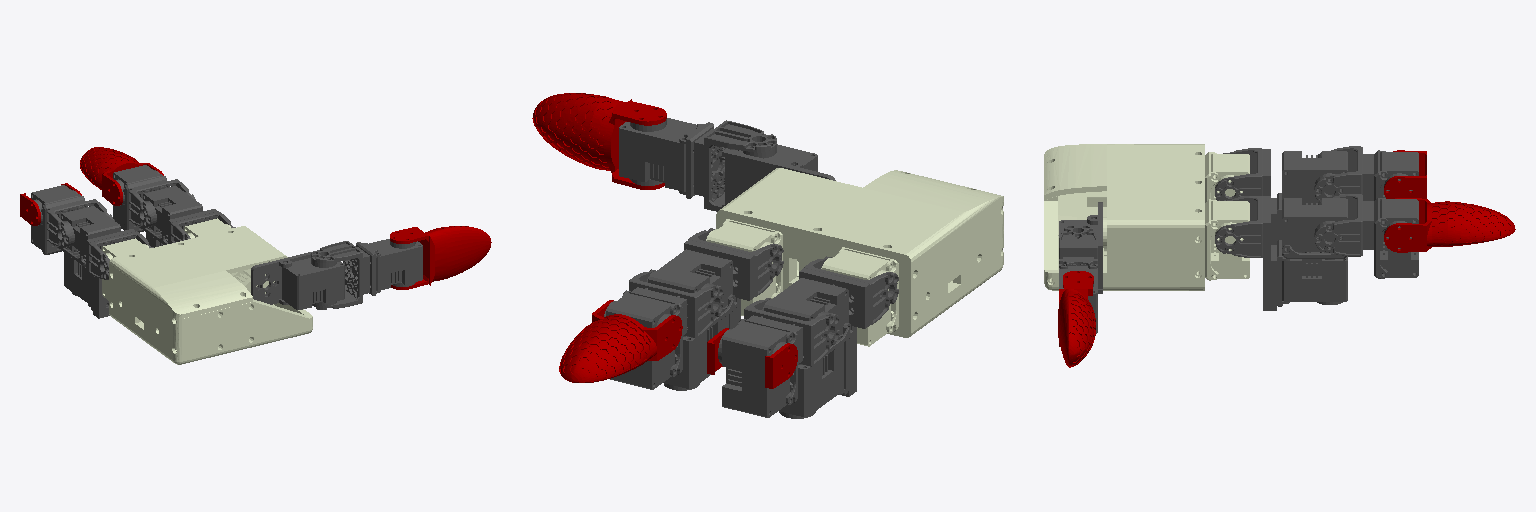
URDF robot description (GX11promax):
<?xml version="1.0" encoding="utf-8"?>
<!-- This URDF was automatically created by SolidWorks to URDF Exporter! Originally created by [author] ([email redacted]) 
     Commit Version: 1.6.0-4-g7f85cfe  Build Version: 1.6.7995.38578
     For more information, please see http://wiki.ros.org/sw_urdf_exporter -->
<robot
  name="GX11promax">
  <link
    name="base_link">
    <inertial>
      <origin
        xyz="0.000312033105377504 0.0559188374133813 -0.000555350477604549"
        rpy="0 0 0" />
      <mass
        value="0.160797512292559" />
      <inertia
        ixx="0.000100702955176406"
        ixy="-1.15922066014657E-05"
        ixz="1.12484051538739E-06"
        iyy="0.000107853474383833"
        iyz="-2.8581846249075E-06"
        izz="0.000188218606855103" />
    </inertial>
    <visual>
      <origin
        xyz="0 0 0"
        rpy="0 0 0" />
      <geometry>
        <mesh
          filename="package://GX11promax/meshes/base_link.STL" />
      </geometry>
      <material name="gray">
        <color rgba="0.885 0.915 0.8 1"/>
      </material>
    </visual>
    <collision>
      <origin
        xyz="0 0 0"
        rpy="0 0 0" />
      <geometry>
        <mesh
          filename="package://GX11promax/meshes/base_link.STL" />
      </geometry>
    </collision>
  </link>
  <link
    name="Link1">
    <inertial>
      <origin
        xyz="0.0255941711782224 0.000241258010955838 0.010493897443027"
        rpy="0 0 0" />
      <mass
        value="0.0204594242505954" />
      <inertia
        ixx="1.64761094304357E-06"
        ixy="1.1727883663051E-08"
        ixz="-7.63721252771507E-09"
        iyy="3.14103768519526E-06"
        iyz="-8.32099308750898E-23"
        izz="3.81122646460053E-06" />
    </inertial>
    <visual>
      <origin
        xyz="0 0 0"
        rpy="0 0 0" />
      <geometry>
        <mesh
          filename="package://GX11promax/meshes/Link1.STL" />
      </geometry>
      <material name="gray">
        <color rgba="0.4 0.4 0.4 1"/>
      </material>
    </visual>
    <collision>
      <origin
        xyz="0 0 0"
        rpy="0 0 0" />
      <geometry>
        <mesh
          filename="package://GX11promax/meshes/Link1.STL" />
      </geometry>
    </collision>
  </link>
  <joint
    name="joint1"
    type="revolute">
    <origin
      xyz="0.0309007440278484 0.0305 0.0058732274974783"
      rpy="1.5707963267949 0 0" />
    <parent
      link="base_link" />
    <child
      link="Link1" />
    <axis
      xyz="0 0 1" />
    <limit
      lower="0"
      upper="2.1"
      effort="10"
      velocity="6.2" />
  </joint>
  <link
    name="Link2">
    <inertial>
      <origin
        xyz="0.0407682617952134 4.4127895781898E-14 0.000223487714582398"
        rpy="0 0 0" />
      <mass
        value="0.0220862252142514" />
      <inertia
        ixx="2.25047371705653E-06"
        ixy="3.28488887357354E-18"
        ixz="1.17278836282494E-08"
        iyy="3.34626288327582E-06"
        iyz="9.07874054918504E-18"
        izz="2.44821512682901E-06" />
    </inertial>
    <visual>
      <origin
        xyz="0 0 0"
        rpy="0 0 0" />
      <geometry>
        <mesh
          filename="package://GX11promax/meshes/Link2.STL" />
      </geometry>
      <material name="gray">
        <color rgba="0.4 0.4 0.4 1"/>
      </material>
    </visual>
    <collision>
      <origin
        xyz="0 0 0"
        rpy="0 0 0" />
      <geometry>
        <mesh
          filename="package://GX11promax/meshes/Link2.STL" />
      </geometry>
    </collision>
  </link>
  <joint
    name="joint2"
    type="revolute">
    <origin
      xyz="0.0344999999999999 0 0.013"
      rpy="-1.5707963267949 0 0" />
    <parent
      link="Link1" />
    <child
      link="Link2" />
    <axis
      xyz="0 0 1" />
    <limit
      lower="-0.25"
      upper="1.7"
      effort="10"
      velocity="6.2" />
  </joint>
  <link
    name="Link3">
    <inertial>
      <origin
        xyz="0.00407809774758189 -6.65938561447699E-08 -1.04083408558608E-17"
        rpy="0 0 0" />
      <mass
        value="0.00125017090070063" />
      <inertia
        ixx="2.40014433117899E-08"
        ixy="7.97359704179151E-13"
        ixz="1.75775880167518E-24"
        iyy="4.71463082785401E-08"
        iyz="1.31561299280712E-23"
        izz="7.01339739927326E-08" />
    </inertial>
    <visual>
      <origin
        xyz="0 0 0"
        rpy="0 0 0" />
      <geometry>
        <mesh
          filename="package://GX11promax/meshes/Link3.STL" />
      </geometry>
      <material name="red">
        <color rgba="0.7 0.0 0.0 1"/>
      </material>
    </visual>
    <collision>
      <origin
        xyz="0 0 0"
        rpy="0 0 0" />
      <geometry>
        <mesh
          filename="package://GX11promax/meshes/Link3.STL" />
      </geometry>
    </collision>
  </link>
  <joint
    name="joint3"
    type="revolute">
    <origin
      xyz="0.0555000000000001 0 0"
      rpy="0 0 0" />
    <parent
      link="Link2" />
    <child
      link="Link3" />
    <axis
      xyz="0 0 1" />
    <limit
      lower="-0.25"
      upper="1.7"
      effort="10"
      velocity="6.2" />
  </joint>
  <link
    name="Link12">
    <inertial>
      <origin
        xyz="8.1335402813288E-05 -0.00166486750766669 -0.025558003708793"
        rpy="0 0 0" />
      <mass
        value="0.0164248371643224" />
      <inertia
        ixx="2.3508821939384E-06"
        ixy="-3.86158209085121E-11"
        ixz="1.52775496068753E-10"
        iyy="3.00563965204244E-06"
        iyz="3.51792921801991E-08"
        izz="1.31382958537141E-06" />
    </inertial>
    <visual>
      <origin
        xyz="0 0 0"
        rpy="0 0 0" />
      <geometry>
        <mesh
          filename="package://GX11promax/meshes/Link12.STL" />
      </geometry>
      <material name="red">
        <color rgba="0.7 0.0 0.0 1"/>
      </material>
    </visual>
    <collision>
      <origin
        xyz="0 0 0"
        rpy="0 0 0" />
      <geometry>
        <mesh
          filename="package://GX11promax/meshes/Link12.STL" />
      </geometry>
    </collision>
  </link>
  <joint
    name="joint12"
    type="fixed">
    <origin
      xyz="0.057 0.00 0"
      rpy="0 1.5707963267949 0" />
    <parent
      link="Link3" />
    <child
      link="Link12" />
    <axis
      xyz="0 0 0" />
    <limit
      lower="-1"
      upper="1"
      effort="10"
      velocity="0" />
  </joint>
  <link
    name="Link4">
    <inertial>
      <origin
        xyz="0.0343877567350999 -0.0218255061736905 -1.16909953939981E-13"
        rpy="0 0 0" />
      <mass
        value="0.0259800201624105" />
      <inertia
        ixx="3.93599324991523E-06"
        ixy="5.40235204916075E-08"
        ixz="-2.94315829951474E-17"
        iyy="3.03368719937263E-06"
        iyz="4.15585120901418E-18"
        izz="4.29362563855095E-06" />
    </inertial>
    <visual>
      <origin
        xyz="0 0 0"
        rpy="0 0 0" />
      <geometry>
        <mesh
          filename="package://GX11promax/meshes/Link4.STL" />
      </geometry>
      <material name="gray">
        <color rgba="0.4 0.4 0.4 1"/>
      </material>
    </visual>
    <collision>
      <origin
        xyz="0 0 0"
        rpy="0 0 0" />
      <geometry>
        <mesh
          filename="package://GX11promax/meshes/Link4.STL" />
      </geometry>
    </collision>
  </link>
  <joint
    name="joint4"
    type="revolute">
    <origin
      xyz="0.029 0.096 0.00806475912646926"
      rpy="1.5707963267949 0 1.5707963267949" />
    <parent
      link="base_link" />
    <child
      link="Link4" />
    <axis
      xyz="0 0 1" />
    <limit
      lower="-0.3"
      upper="1.6"
      effort="10"
      velocity="6.2" />
  </joint>
  <link
    name="Link5">
    <inertial>
      <origin
        xyz="-0.00693594209096299 -0.000279377685939716 0.0118671806604443"
        rpy="0 0 0" />
      <mass
        value="0.0176678393043425" />
      <inertia
        ixx="1.47006653226869E-06"
        ixy="-1.17278787211214E-08"
        ixz="-4.36210007715237E-15"
        iyy="2.21216244461737E-06"
        iyz="1.53129454691632E-16"
        izz="2.71458475513644E-06" />
    </inertial>
    <visual>
      <origin
        xyz="0 0 0"
        rpy="0 0 0" />
      <geometry>
        <mesh
          filename="package://GX11promax/meshes/Link5.STL" />
      </geometry>
      <material name="gray">
        <color rgba="0.4 0.4 0.4 1"/>
      </material>
    </visual>
    <collision>
      <origin
        xyz="0 0 0"
        rpy="0 0 0" />
      <geometry>
        <mesh
          filename="package://GX11promax/meshes/Link5.STL" />
      </geometry>
    </collision>
  </link>
  <joint
    name="joint5"
    type="revolute">
    <origin
      xyz="0.0515 -0.0119999999999991 0"
      rpy="-1.5707963267949 0 0" />
    <parent
      link="Link4" />
    <child
      link="Link5" />
    <axis
      xyz="0 0 -1" />
    <limit
      lower="-0.6"
      upper="0.6"
      effort="10"
      velocity="6.2" />
  </joint>
  <link
    name="Link6">
    <inertial>
      <origin
        xyz="0.0306969035122656 -0.00550289582691389 -0.000221655002058015"
        rpy="0 0 0" />
      <mass
        value="0.0222688407504672" />
      <inertia
        ixx="3.39223294772132E-06"
        ixy="4.36812949837023E-15"
        ixz="-1.81856366192471E-16"
        iyy="2.14774478329101E-06"
        iyz="-1.17278787182961E-08"
        izz="2.47775221177695E-06" />
    </inertial>
    <visual>
      <origin
        xyz="0 0 0"
        rpy="0 0 0" />
      <geometry>
        <mesh
          filename="package://GX11promax/meshes/Link6.STL" />
      </geometry>
      <material name="gray">
        <color rgba="0.4 0.4 0.4 1"/>
      </material>
    </visual>
    <collision>
      <origin
        xyz="0 0 0"
        rpy="0 0 0" />
      <geometry>
        <mesh
          filename="package://GX11promax/meshes/Link6.STL" />
      </geometry>
    </collision>
  </link>
  <joint
    name="joint6"
    type="revolute">
    <origin
      xyz="0 0 0.013"
      rpy="1.5707963267949 0 0" />
    <parent
      link="Link5" />
    <child
      link="Link6" />
    <axis
      xyz="0 0 1" />
    <limit
      lower="-0.506"
      upper="1.885"
      effort="10"
      velocity="6.2" />
  </joint>
  <link
    name="Link7">
    <inertial>
      <origin
        xyz="0.00407809774758192 0 0"
        rpy="0 0 0" />
      <mass
        value="0.00125017090070063" />
      <inertia
        ixx="2.40014433117899E-08"
        ixy="-7.9735970419414E-13"
        ixz="-5.51842243189203E-23"
        iyy="4.71463082785403E-08"
        iyz="-2.5435416626375E-23"
        izz="7.01339739927328E-08" />
    </inertial>
    <visual>
      <origin
        xyz="0 0 0"
        rpy="0 0 0" />
      <geometry>
        <mesh
          filename="package://GX11promax/meshes/Link7.STL" />
      </geometry>
      <material name="red">
        <color rgba="0.7 0.0 0.0 1"/>
      </material>
    </visual>
    <collision>
      <origin
        xyz="0 0 0"
        rpy="0 0 0" />
      <geometry>
        <mesh
          filename="package://GX11promax/meshes/Link7.STL" />
      </geometry>
    </collision>
  </link>
  <joint
    name="joint7"
    type="revolute">
    <origin
      xyz="0.036 0 0"
      rpy="3.14159265358979 0 0" />
    <parent
      link="Link6" />
    <child
      link="Link7" />
    <axis
      xyz="0 0 -1" />
    <limit
      lower="-0.366"
      upper="2.042"
      effort="10"
      velocity="6.2" />
  </joint>
  <link
    name="Link13">
    <inertial>
      <origin
        xyz="-8.13400999538118E-05 0.00166486239118922 -0.0255580037394252"
        rpy="0 0 0" />
      <mass
        value="0.016424837165235" />
      <inertia
        ixx="2.35088182791415E-06"
        ixy="-3.84307874164728E-11"
        ixz="-1.51618546307564E-10"
        iyy="3.00564049616382E-06"
        iyz="-3.51780609409142E-08"
        izz="1.31383009868489E-06" />
    </inertial>
    <visual>
      <origin
        xyz="0 0 0"
        rpy="0 0 0" />
      <geometry>
        <mesh
          filename="package://GX11promax/meshes/Link13.STL" />
      </geometry>
      <material name="red">
        <color rgba="0.7 0.0 0.0 1"/>
      </material>
    </visual>
    <collision>
      <origin
        xyz="0 0 0"
        rpy="0 0 0" />
      <geometry>
        <mesh
          filename="package://GX11promax/meshes/Link13.STL" />
      </geometry>
    </collision>
  </link>
  <joint
    name="joint13"
    type="fixed">
    <origin
      xyz="0.0570187350990352 -0.00231569753250514 -8.14092925387963E-05"
      rpy="0 1.5707963267949 0" />
    <parent
      link="Link7" />
    <child
      link="Link13" />
    <axis
      xyz="0 0 0" />
  </joint>
  <link
    name="Link8">
    <inertial>
      <origin
        xyz="0.034387756735096 -0.0218255061736946 -1.17045262371107E-13"
        rpy="0 0 0" />
      <mass
        value="0.0259800201624256" />
      <inertia
        ixx="3.93599324991521E-06"
        ixy="5.40235204916678E-08"
        ixz="-2.94210091036974E-17"
        iyy="3.03368719937266E-06"
        iyz="4.1822595311076E-18"
        izz="4.293625638551E-06" />
    </inertial>
    <visual>
      <origin
        xyz="0 0 0"
        rpy="0 0 0" />
      <geometry>
        <mesh
          filename="package://GX11promax/meshes/Link8.STL" />
      </geometry>
      <material name="gray">
        <color rgba="0.4 0.4 0.4 1"/>
      </material>
    </visual>
    <collision>
      <origin
        xyz="0 0 0"
        rpy="0 0 0" />
      <geometry>
        <mesh
          filename="package://GX11promax/meshes/Link8.STL" />
      </geometry>
    </collision>
  </link>
  <joint
    name="joint8"
    type="revolute">
    <origin
      xyz="-0.0289999999999999 0.096 0.00806475912646949"
      rpy="1.5707963267949 0 1.5707963267949" />
    <parent
      link="base_link" />
    <child
      link="Link8" />
    <axis
      xyz="0 0 1" />
    <limit
      lower="-0.314"
      upper="2.23"
      effort="10"
      velocity="6.2" />
  </joint>
  <link
    name="Link9">
    <inertial>
      <origin
        xyz="-0.00693594212200646 -0.000279377679085181 0.011867180660409"
        rpy="0 0 0" />
      <mass
        value="0.0176678393044255" />
      <inertia
        ixx="1.47006653227021E-06"
        ixy="-1.17278787191726E-08"
        ixz="4.3636658277301E-15"
        iyy="2.21216244462187E-06"
        iyz="-1.53881432448031E-16"
        izz="2.71458475514133E-06" />
    </inertial>
    <visual>
      <origin
        xyz="0 0 0"
        rpy="0 0 0" />
      <geometry>
        <mesh
          filename="package://GX11promax/meshes/Link9.STL" />
      </geometry>
      <material name="gray">
        <color rgba="0.4 0.4 0.4 1"/>
      </material>
    </visual>
    <collision>
      <origin
        xyz="0 0 0"
        rpy="0 0 0" />
      <geometry>
        <mesh
          filename="package://GX11promax/meshes/Link9.STL" />
      </geometry>
    </collision>
  </link>
  <joint
    name="joint9"
    type="revolute">
    <origin
      xyz="0.0515 -0.0119999999999994 0"
      rpy="-1.5707963267949 0 0" />
    <parent
      link="Link8" />
    <child
      link="Link9" />
    <axis
      xyz="0 0 -1" />
    <limit
      lower="-0.6"
      upper="0.6"
      effort="10"
      velocity="6.2" />
  </joint>
  <link
    name="Link10">
    <inertial>
      <origin
        xyz="0.0306969035122455 -0.0055028958269694 -0.000221655001767671"
        rpy="0 0 0" />
      <mass
        value="0.0222688407505351" />
      <inertia
        ixx="3.39223294772279E-06"
        ixy="4.36052961522859E-15"
        ixz="-1.26836697019448E-16"
        iyy="2.14774478329251E-06"
        iyz="-1.17278787162833E-08"
        izz="2.47775221177791E-06" />
    </inertial>
    <visual>
      <origin
        xyz="0 0 0"
        rpy="0 0 0" />
      <geometry>
        <mesh
          filename="package://GX11promax/meshes/Link10.STL" />
      </geometry>
      <material name="gray">
        <color rgba="0.4 0.4 0.4 1"/>
      </material>
    </visual>
    <collision>
      <origin
        xyz="0 0 0"
        rpy="0 0 0" />
      <geometry>
        <mesh
          filename="package://GX11promax/meshes/Link10.STL" />
      </geometry>
    </collision>
  </link>
  <joint
    name="joint10"
    type="revolute">
    <origin
      xyz="0 0 0.013"
      rpy="1.5708 0 0" />
    <parent
      link="Link9" />
    <child
      link="Link10" />
    <axis
      xyz="0 0 1" />
    <limit
      lower="-0.506"
      upper="1.885"
      effort="10"
      velocity="6.2" />
  </joint>
  <link
    name="Link11">
    <inertial>
      <origin
        xyz="0.00407809774758178 6.65938561551782E-08 0"
        rpy="0 0 0" />
      <mass
        value="0.00125017090070063" />
      <inertia
        ixx="2.40014433117899E-08"
        ixy="-7.97359704187499E-13"
        ixz="-5.48213759628279E-23"
        iyy="4.71463082785402E-08"
        iyz="7.31847139371896E-24"
        izz="7.01339739927327E-08" />
    </inertial>
    <visual>
      <origin
        xyz="0 0 0"
        rpy="0 0 0" />
      <geometry>
        <mesh
          filename="package://GX11promax/meshes/Link11.STL" />
      </geometry>
      <material name="red">
        <color rgba="0.7 0.0 0.0 1"/>
      </material>
    </visual>
    <collision>
      <origin
        xyz="0 0 0"
        rpy="0 0 0" />
      <geometry>
        <mesh
          filename="package://GX11promax/meshes/Link11.STL" />
      </geometry>
    </collision>
  </link>
  <joint
    name="joint11"
    type="revolute">
    <origin
      xyz="0.0359999999999999 0 0"
      rpy="-3.14159265358979 0 0" />
    <parent
      link="Link10" />
    <child
      link="Link11" />
    <axis
      xyz="0 0 -1" />
    <limit
      lower="-0.366"
      upper="2.042"
      effort="10"
      velocity="6.2" />
  </joint>
  <link
    name="Link14">
    <inertial>
      <origin
        xyz="-8.13402247644215E-05 0.00166486231231224 -0.0255580035739592"
        rpy="0 0 0" />
      <mass
        value="0.0164248372683252" />
      <inertia
        ixx="2.3508818769117E-06"
        ixy="-3.84474455364657E-11"
        ixz="-1.51615796905866E-10"
        iyy="3.00564050957234E-06"
        iyz="-3.51780291748176E-08"
        izz="1.31383008699383E-06" />
    </inertial>
    <visual>
      <origin
        xyz="0 0 0"
        rpy="0 0 0" />
      <geometry>
        <mesh
          filename="package://GX11promax/meshes/Link14.STL" />
      </geometry>
      <material name="red">
        <color rgba="0.7 0.0 0.0 1"/>
      </material>
    </visual>
    <collision>
      <origin
        xyz="0 0 0"
        rpy="0 0 0" />
      <geometry>
        <mesh
          filename="package://GX11promax/meshes/Link14.STL" />
      </geometry>
    </collision>
  </link>
  <joint
    name="joint14"
    type="fixed">
    <origin
      xyz="0.057019 -0.0023157 -8.1409E-05"
      rpy="0 1.5708 0" />
    <parent
      link="Link11" />
    <child
      link="Link14" />
    <axis
      xyz="0 0 0" />
  </joint>
</robot>

--- What the picture shows (computed from the rendered views, not written in the file) ---
The picture shows the robot from 3 angles, left to right: view 1: azimuth 30°, elevation 25°; view 2: azimuth 150°, elevation 25°; view 3: azimuth 270°, elevation 25°; orthographic projection.
Robot: GX11promax — 15 links, 14 joints (11 revolute, 3 fixed); root link base_link; default pose: every joint at zero.
Visible links, largest first — view 1: base_link, Link2, Link1, Link12, Link8, Link10, Link6, Link9, Link5, Link13, Link4, Link3 (+2 smaller); view 2: base_link, Link2, Link10, Link8, Link6, Link12, Link4, Link13, Link1, Link9, Link5, Link11 (+2 smaller); view 3: base_link, Link4, Link6, Link10, Link13, Link5, Link9, Link12, Link8, Link2, Link7, Link11 (+2 smaller).
Boxes of the visible links, x1,y1,x2,y2 form: base_link: (102, 218, 312, 364); Link2: (311, 239, 422, 309); Link1: (251, 250, 344, 309); Link12: (418, 226, 491, 285); Link8: (64, 229, 153, 318); Link10: (31, 185, 113, 254); Link6: (113, 165, 195, 232); Link9: (58, 206, 120, 266); Link5: (140, 186, 202, 244); Link13: (80, 147, 146, 189); Link4: (146, 209, 235, 247); Link3: (390, 227, 428, 289); base_link: (706, 168, 1003, 346); Link2: (619, 118, 776, 211); Link10: (718, 298, 839, 417); Link8: (779, 256, 898, 418); Link6: (604, 269, 724, 389); Link12: (532, 93, 631, 172); Link4: (663, 228, 783, 390); Link13: (559, 314, 656, 382); Link1: (722, 144, 835, 207); Link9: (762, 278, 852, 357); Link5: (647, 249, 736, 328); Link11: (707, 328, 797, 388); base_link: (1044, 144, 1249, 290); Link4: (1215, 196, 1347, 310); Link6: (1314, 194, 1418, 278); Link10: (1314, 146, 1418, 200); Link13: (1427, 199, 1515, 250); Link5: (1282, 198, 1347, 258); Link9: (1282, 151, 1347, 204); Link12: (1058, 289, 1095, 367); Link8: (1215, 148, 1281, 244); Link2: (1059, 224, 1097, 333); Link7: (1384, 198, 1426, 252); Link11: (1384, 150, 1426, 198).
Bounding box of the posed robot: 0.2299 × 0.2435 × 0.0581 m (x, y, z).
14 mesh visuals loaded from 15 distinct referenced files (14 binary STL); not drawn: 1 (reference not matched to a file when rendering).